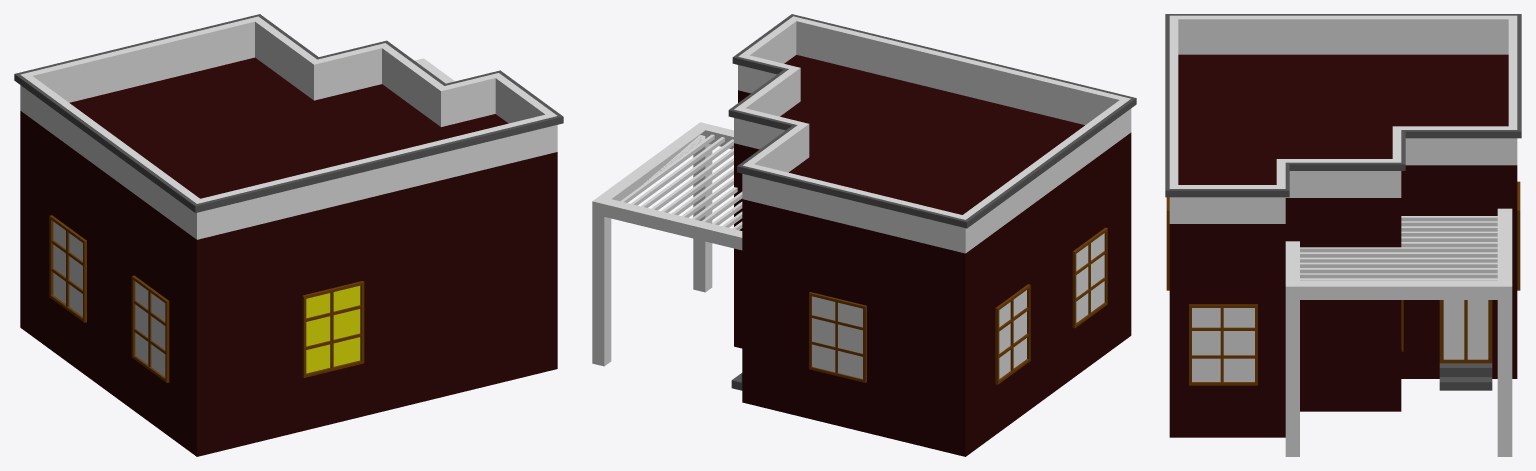
The picture shows the model from 3 angles, left to right: view 1: azimuth 30°, elevation 25°; view 2: azimuth 150°, elevation 25°; view 3: azimuth 270°, elevation 25°; orthographic projection. The views are drawn at different scales.
Parts seen in each view (by area): view 1: Buildidng_1; view 2: Buildidng_1; view 3: Buildidng_1.
Boxes of the visible parts, bbox=[...] form: Buildidng_1: bbox=[14, 14, 563, 456]; Buildidng_1: bbox=[592, 14, 1136, 456]; Buildidng_1: bbox=[1165, 14, 1521, 456].
Bounding box in the file's own units: 1734 × 1035 × 1343.
